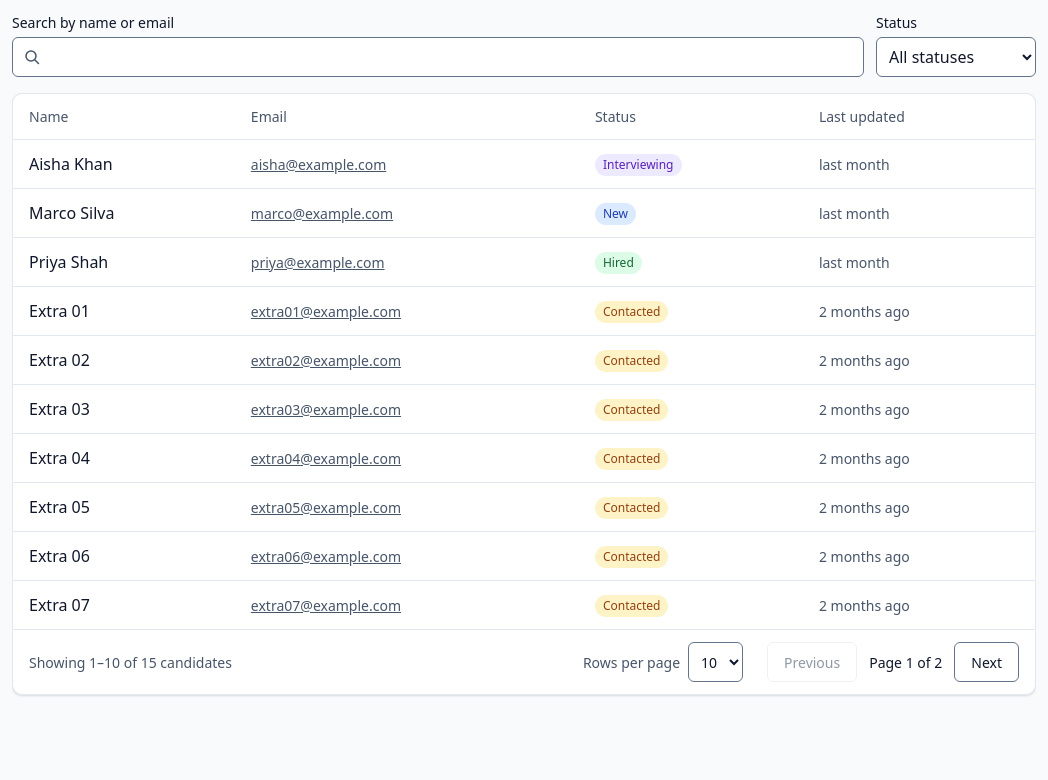
Test case: CandidateSearch › search as you type › makes one request, 300 ms after the last keystroke
Expected: the text "Aisha Khan" is shown, left=13, top=140, right=235, bottom=188
Type "m" into the search field labelled "Search by name or email".
click(438, 57); type("m")  # box left=12, top=37, right=864, bottom=77
Wait 50 ms
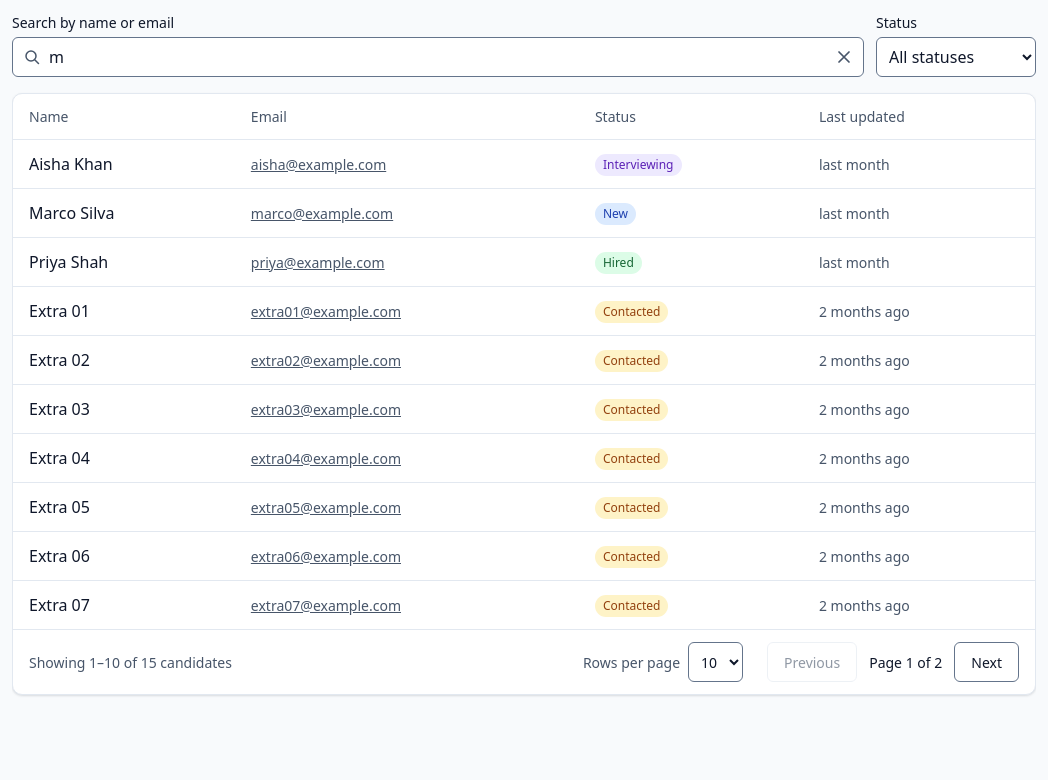
Replace the text in the search field labelled "Search by name or email" with "ma" at (438, 57), box left=12, top=37, right=864, bottom=77
Wait 50 ms
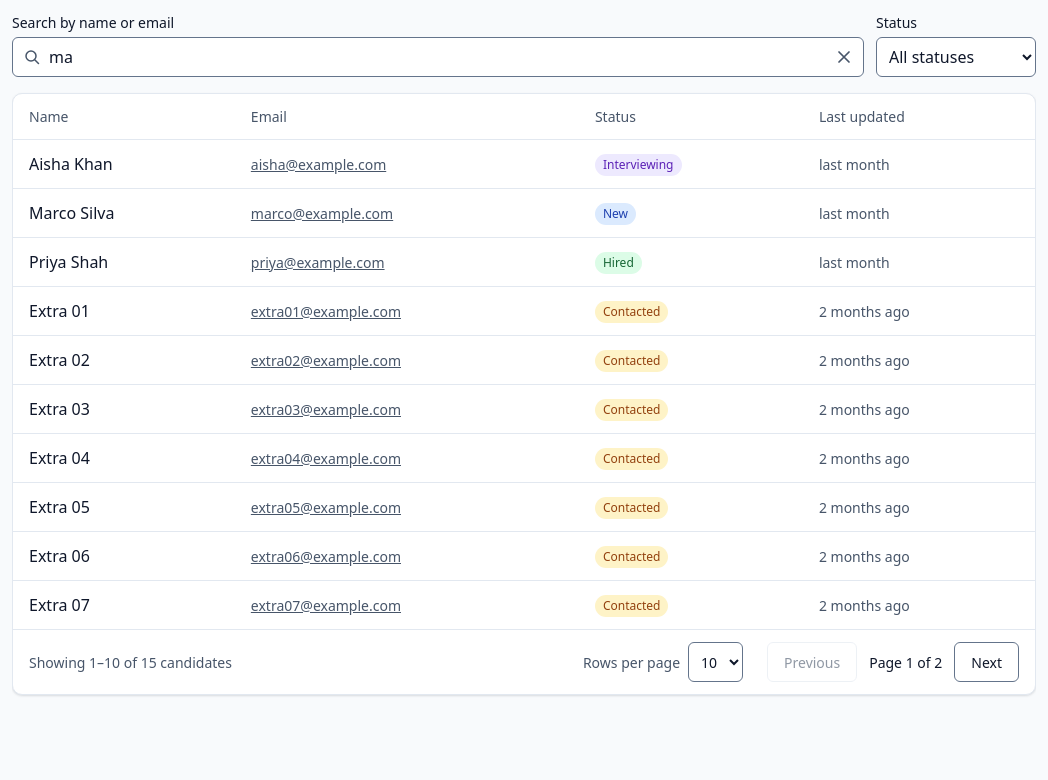
Replace the text in the search field labelled "Search by name or email" with "mar" at (438, 57), box left=12, top=37, right=864, bottom=77
Wait 50 ms
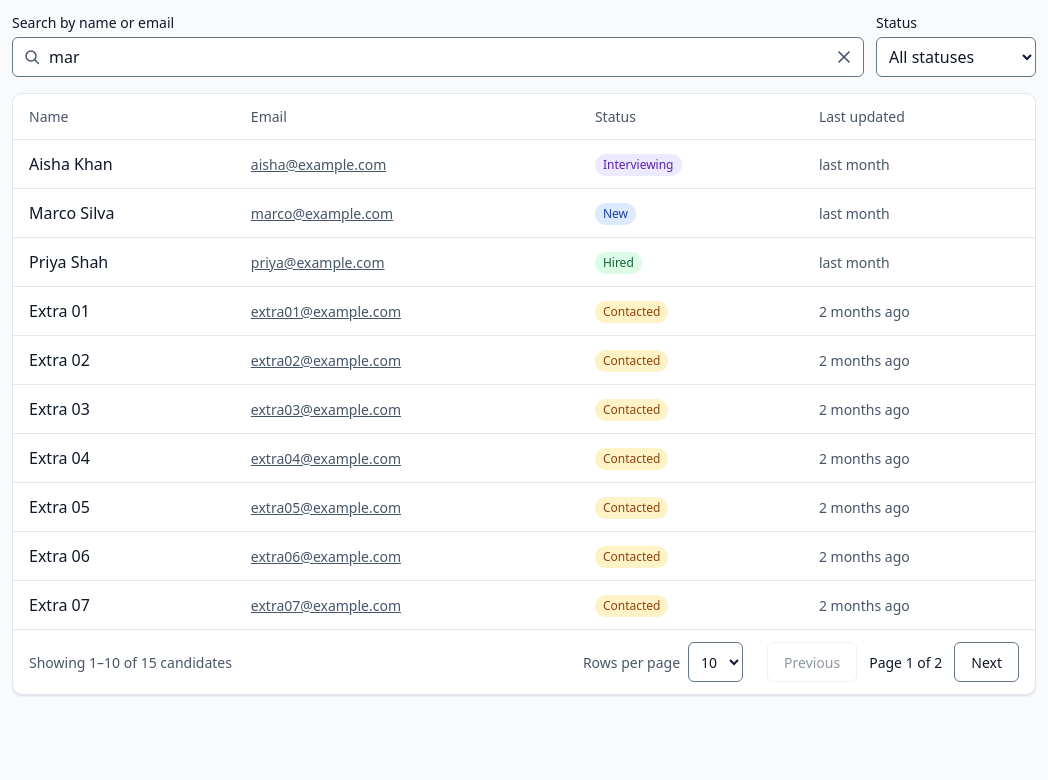
Replace the text in the search field labelled "Search by name or email" with "marc" at (438, 57), box left=12, top=37, right=864, bottom=77
Wait 50 ms
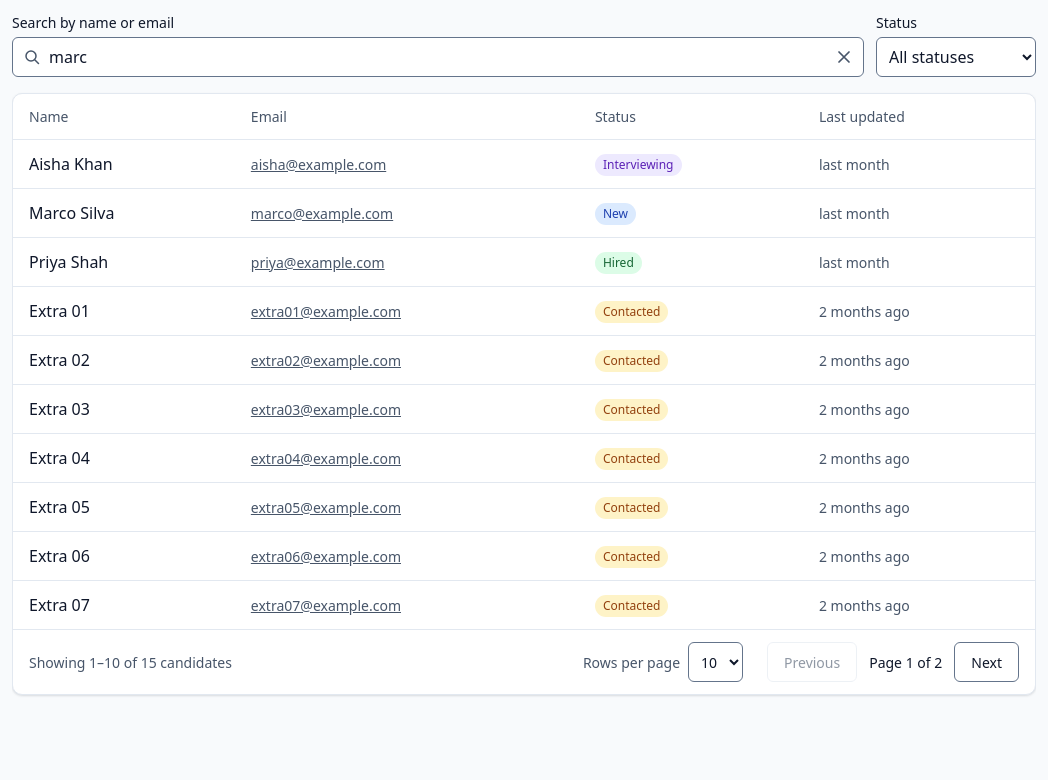
Replace the text in the search field labelled "Search by name or email" with "marco" at (438, 57), box left=12, top=37, right=864, bottom=77
Wait 300 ms
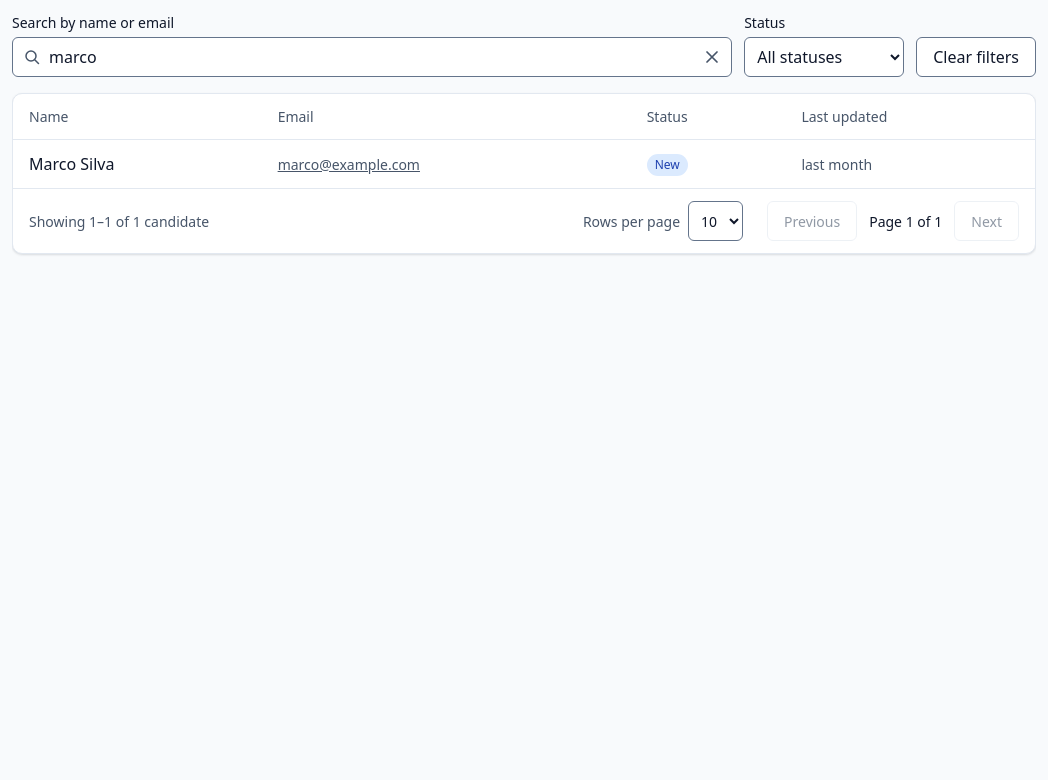
Now the text "Showing 1–1 of 1 candidate" is shown, box left=29, top=210, right=209, bottom=232
Now the text "Aisha Khan" is gone
